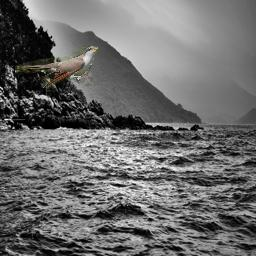Cuckoo: (15, 46, 98, 88)
